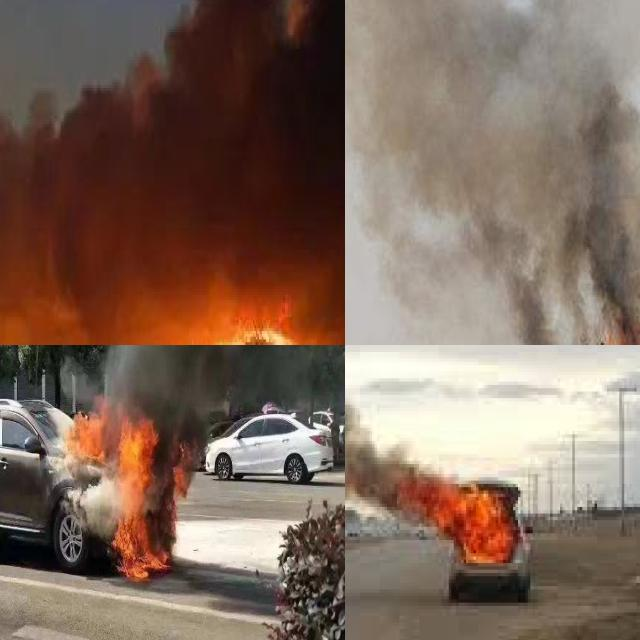fire: (71, 393, 195, 591), (380, 461, 535, 583), (100, 314, 300, 345), (600, 312, 640, 345)
smoke: (0, 0, 345, 345), (345, 0, 640, 345), (108, 345, 308, 434), (80, 480, 122, 538)
